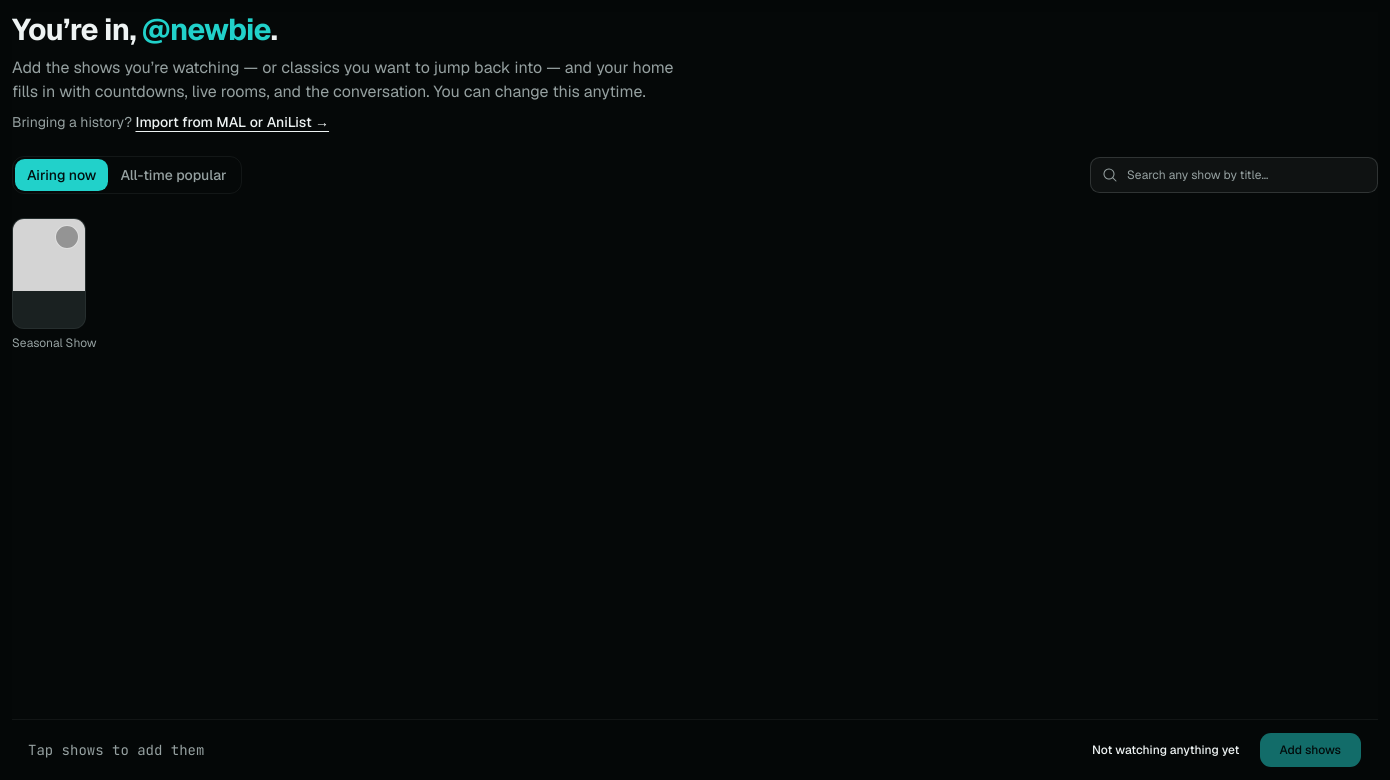
Onboarding › switches between the airing-now and all-time-popular pools
Expected: the button "Seasonal Show" is shown, [12,218,230,352]
Expected: the button "Classic Show" is not shown
Click the button "All-time popular".
click(174, 175)  # box [108,159,239,191]
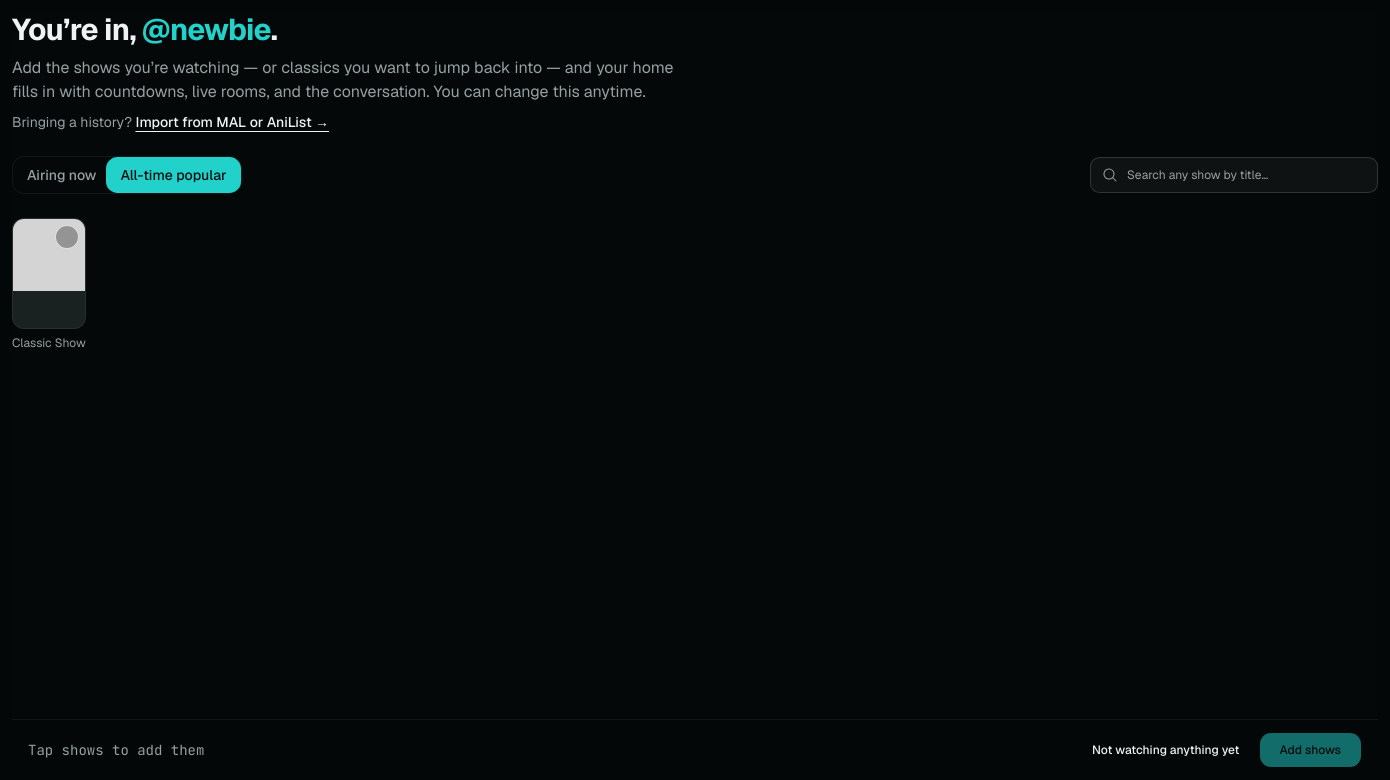
Expected: the button "Classic Show" is shown, [12,218,230,352]
Expected: the button "Seasonal Show" is gone
